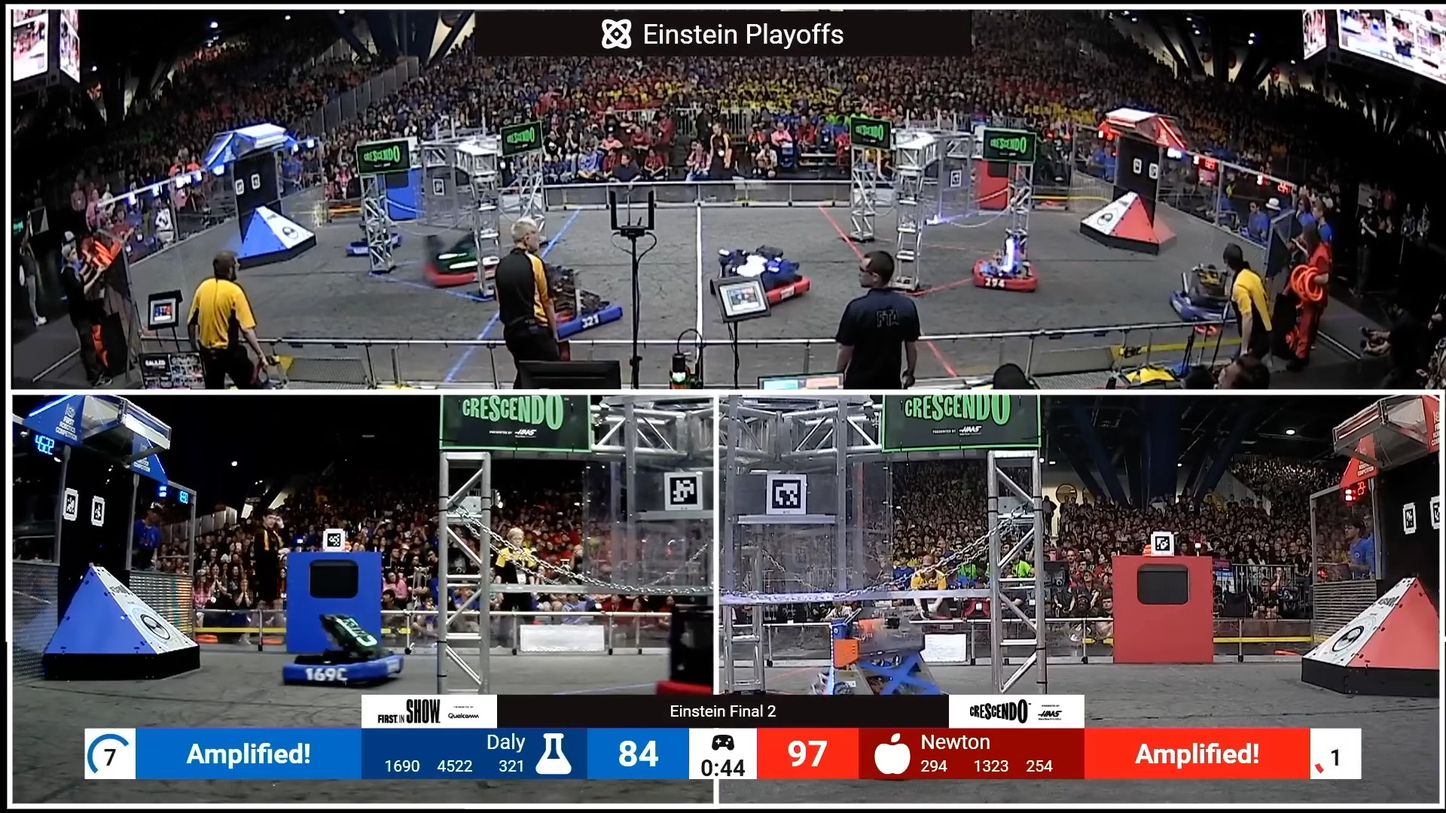bumpers: (704, 257, 827, 321), (275, 644, 411, 694), (530, 290, 634, 338), (416, 250, 503, 295), (967, 257, 1045, 298), (341, 232, 410, 260)
